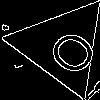O: (37, 21, 100, 80)
